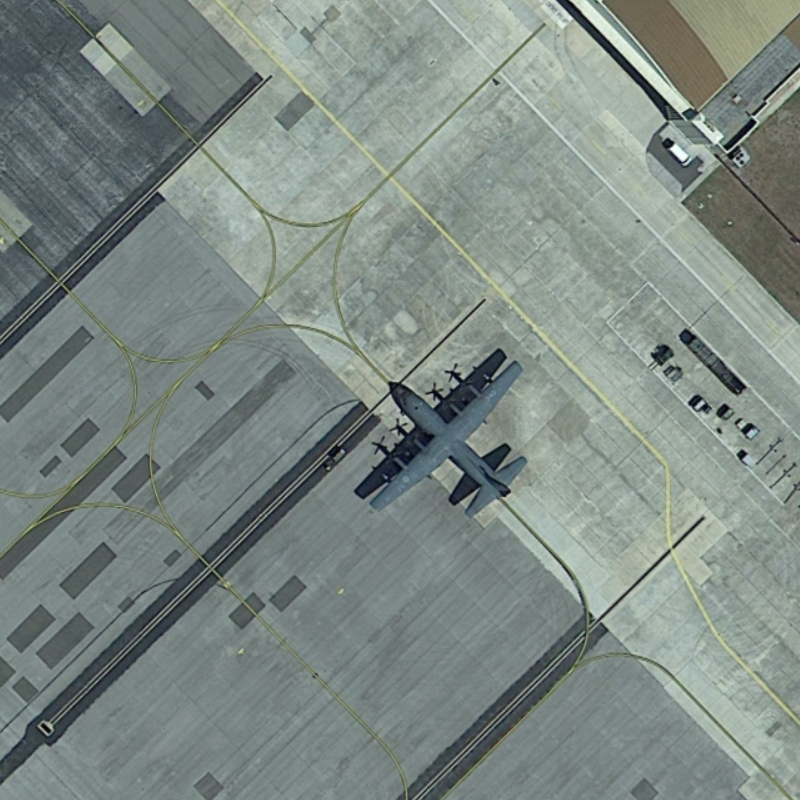A2: (358, 351, 537, 527)
